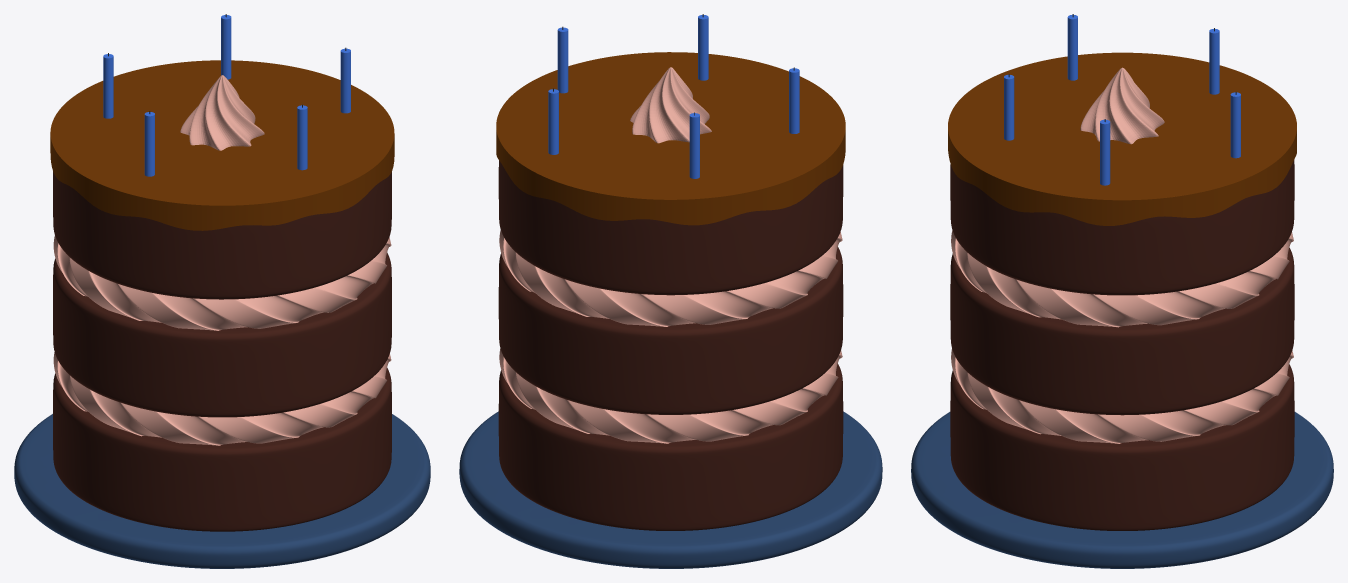
Rendered from torta.glb.
The picture shows the model from 3 angles, left to right: view 1: azimuth 30°, elevation 25°; view 2: azimuth 150°, elevation 25°; view 3: azimuth 270°, elevation 25°; orthographic projection.
Visible parts, largest first — view 1: Torta, Cubierta, Plato, Relleno, Icing, vela_1, vela_2, vela_4, vela_5, vela_3; view 2: Torta, Cubierta, Plato, Relleno, Icing, vela_1, vela_2, vela_3, vela_5, vela_4; view 3: Torta, Cubierta, Plato, Relleno, Icing, vela_1, vela_3, vela_4, vela_2, vela_5.
Boxes of the visible parts, left/top/right/bottom form: Torta: left=53, top=171, right=391, bottom=531; Cubierta: left=50, top=60, right=394, bottom=230; Plato: left=14, top=414, right=430, bottom=568; Relleno: left=53, top=236, right=391, bottom=445; Icing: left=180, top=75, right=264, bottom=150; vela_1: left=340, top=47, right=350, bottom=113; vela_2: left=297, top=104, right=307, bottom=170; vela_4: left=103, top=53, right=113, bottom=118; vela_5: left=144, top=111, right=154, bottom=176; vela_3: left=221, top=14, right=231, bottom=79; Torta: left=498, top=160, right=843, bottom=530; Cubierta: left=496, top=52, right=845, bottom=225; Plato: left=459, top=411, right=882, bottom=568; Relleno: left=499, top=230, right=842, bottom=443; Icing: left=630, top=67, right=711, bottom=143; vela_1: left=557, top=26, right=568, bottom=93; vela_2: left=698, top=14, right=708, bottom=80; vela_3: left=548, top=88, right=558, bottom=154; vela_5: left=789, top=67, right=799, bottom=133; vela_4: left=689, top=112, right=699, bottom=178; Torta: left=950, top=160, right=1294, bottom=530; Cubierta: left=948, top=52, right=1296, bottom=225; Plato: left=911, top=412, right=1333, bottom=568; Relleno: left=951, top=230, right=1293, bottom=443; Icing: left=1080, top=67, right=1164, bottom=144; vela_1: left=1100, top=119, right=1110, bottom=185; vela_3: left=1230, top=91, right=1240, bottom=158; vela_4: left=1209, top=28, right=1219, bottom=94; vela_2: left=1004, top=74, right=1014, bottom=140; vela_5: left=1067, top=14, right=1077, bottom=80.
Size of the model in its own units: 2.27 by 2.49 by 2.27.
